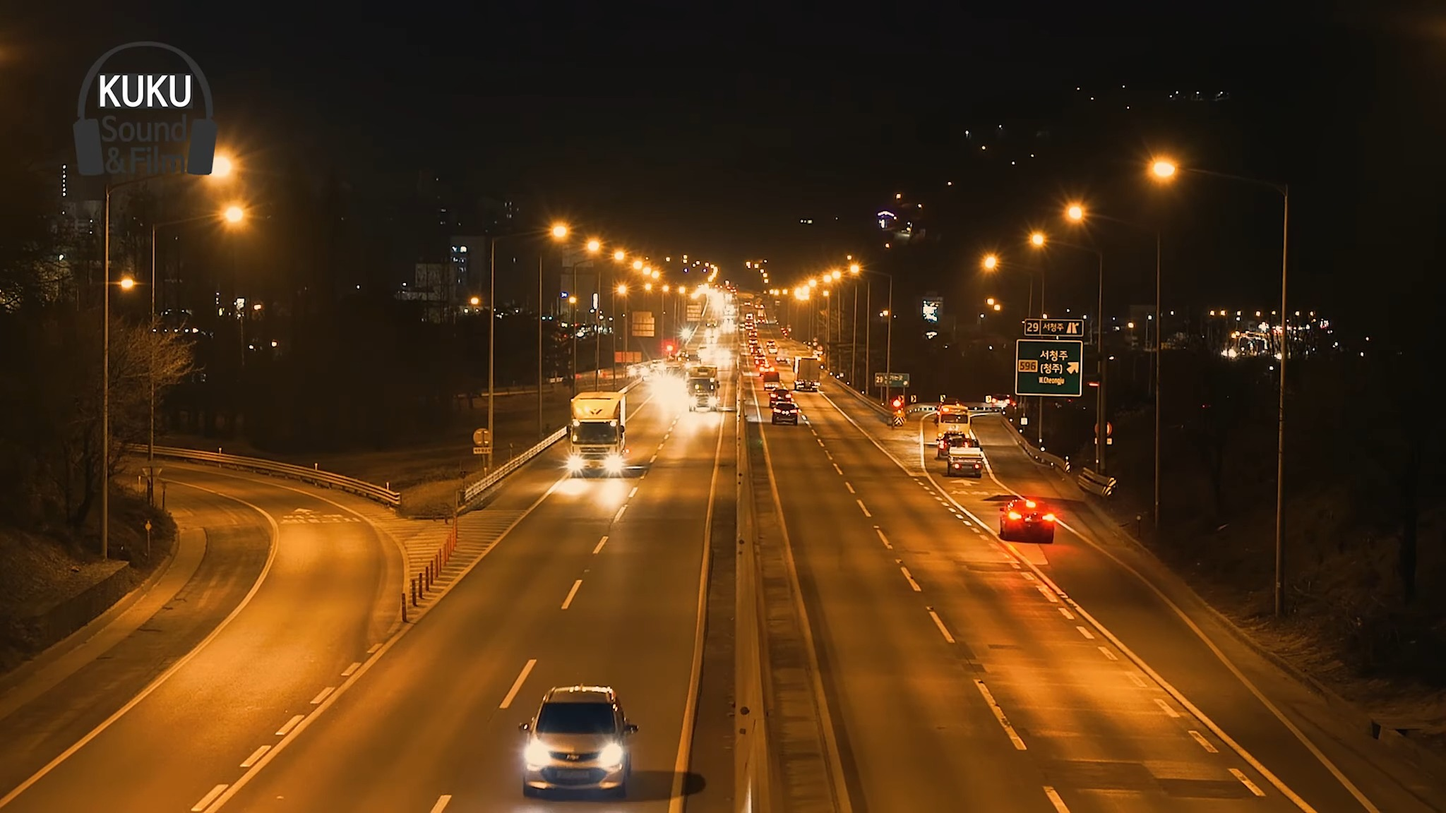car: (526, 681, 627, 796), (994, 489, 1054, 536)
truck: (563, 387, 630, 484)
